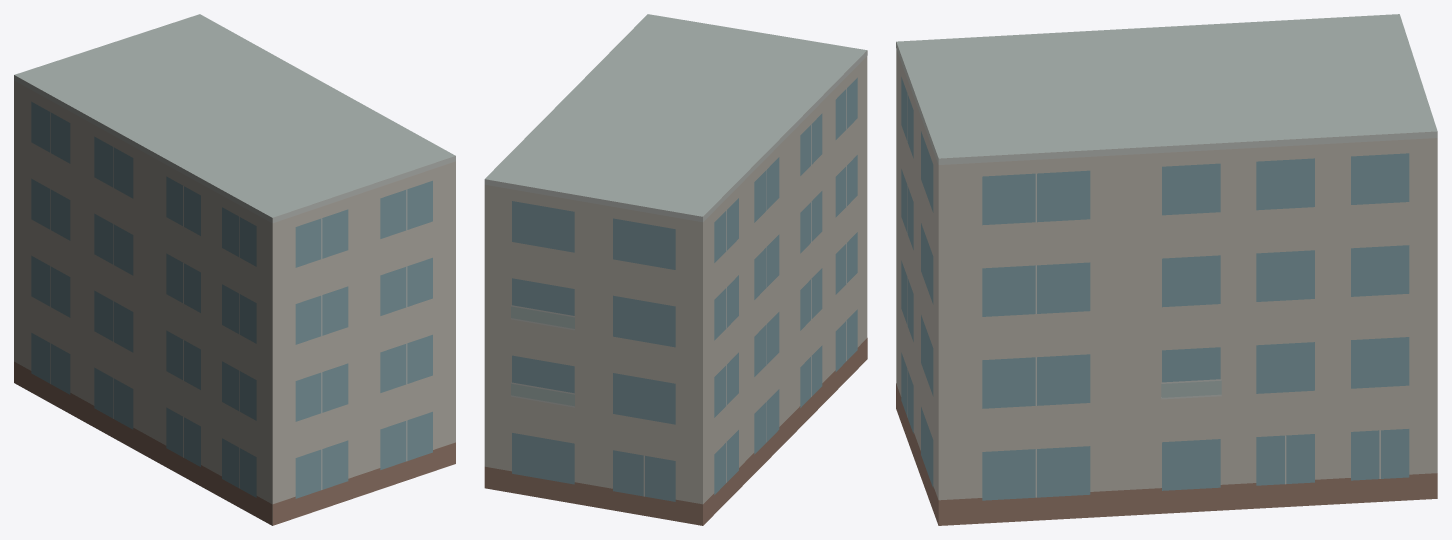
Rendered from survey-upis-32705472.glb.
The picture shows the model from 3 angles, left to right: view 1: azimuth 30°, elevation 25°; view 2: azimuth 150°, elevation 25°; view 3: azimuth 270°, elevation 25°; orthographic projection. The views are drawn at different scales.
Visible parts, largest first — view 1: survey-upis-32705472.tmp; view 2: survey-upis-32705472.tmp; view 3: survey-upis-32705472.tmp.
Boxes of the visible parts, left/top/right/bottom form: survey-upis-32705472.tmp: left=14, top=14, right=455, bottom=525; survey-upis-32705472.tmp: left=484, top=14, right=867, bottom=525; survey-upis-32705472.tmp: left=896, top=14, right=1437, bottom=525.
Bounding box in the file's own units: 11.53 × 13.65 × 18.25.
